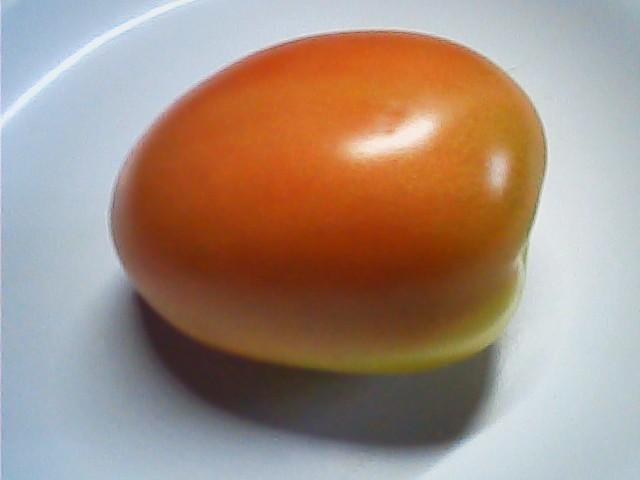verde: (106, 29, 548, 374)
